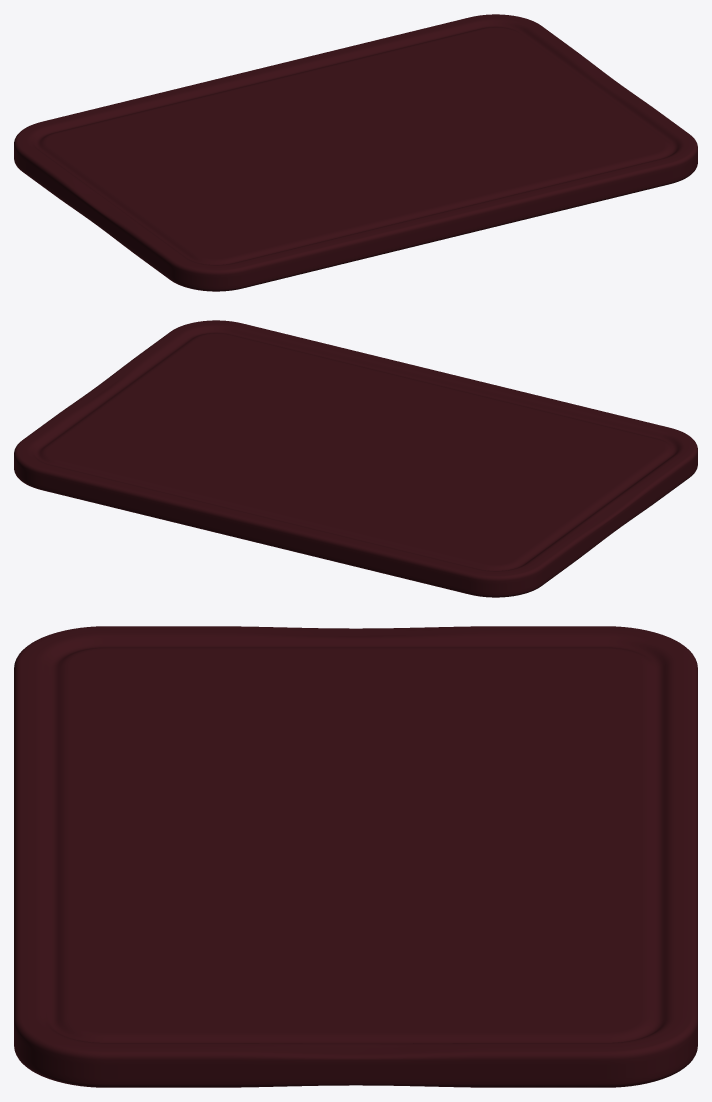
3 views of the same model, one above another, from view 1: azimuth 30°, elevation 25°; view 2: azimuth 150°, elevation 25°; view 3: azimuth 270°, elevation 25° (orthographic). The views are drawn at different scales.
Visible parts, largest first — view 1: part_000_Grooved_board_body; view 2: part_000_Grooved_board_body; view 3: part_000_Grooved_board_body.
Boxes of the visible parts, x1=… form: part_000_Grooved_board_body: x1=14, y1=14, x2=697, y2=291; part_000_Grooved_board_body: x1=14, y1=320, x2=697, y2=597; part_000_Grooved_board_body: x1=14, y1=626, x2=697, y2=1087.
Bounding box in the file's own units: 0.244 × 0.0095 × 0.164.
